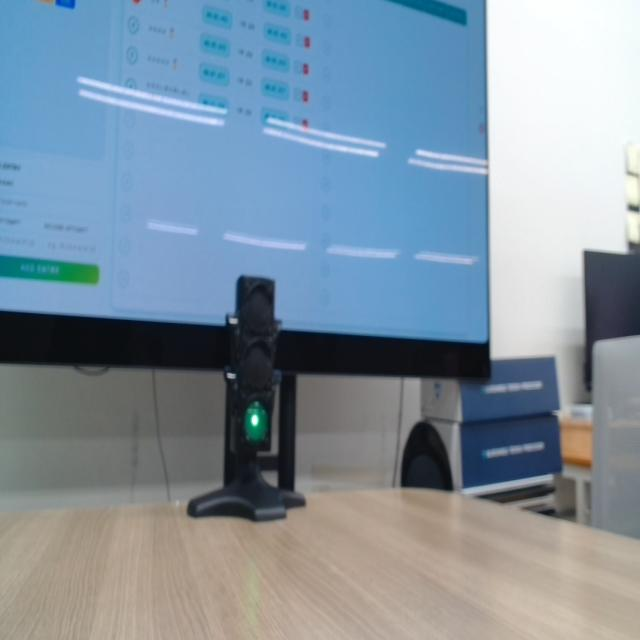green_light: (244, 402, 268, 444)
